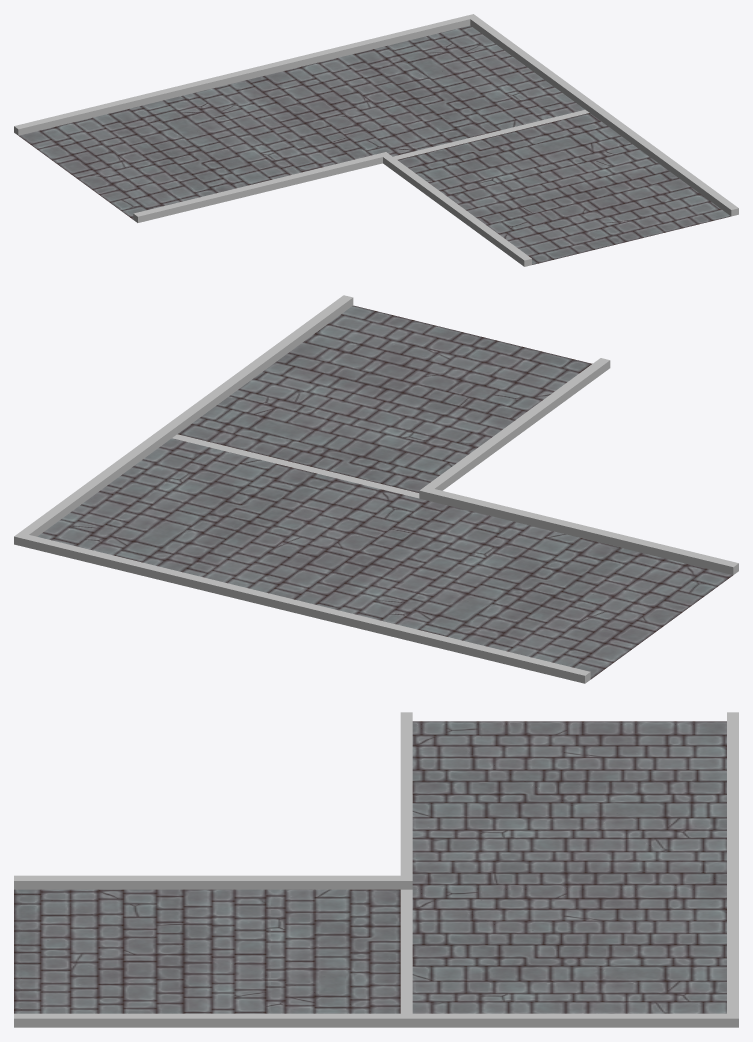
The model's file is Road_Turn.FBX.
3 renders of one model, top to bottom at view 1: azimuth 30°, elevation 25°; view 2: azimuth 150°, elevation 25°; view 3: azimuth 270°, elevation 25°, orthographic. The views are drawn at different scales.
Parts seen in each view (by area): view 1: Road_Turn; view 2: Road_Turn; view 3: Road_Turn.
Boxes of the visible parts, x1,y1,x2,y2 form: Road_Turn: [14, 14, 738, 266]; Road_Turn: [14, 295, 738, 683]; Road_Turn: [14, 712, 738, 1027].
Bounding box in the file's own units: 591 × 7.87 × 591.
